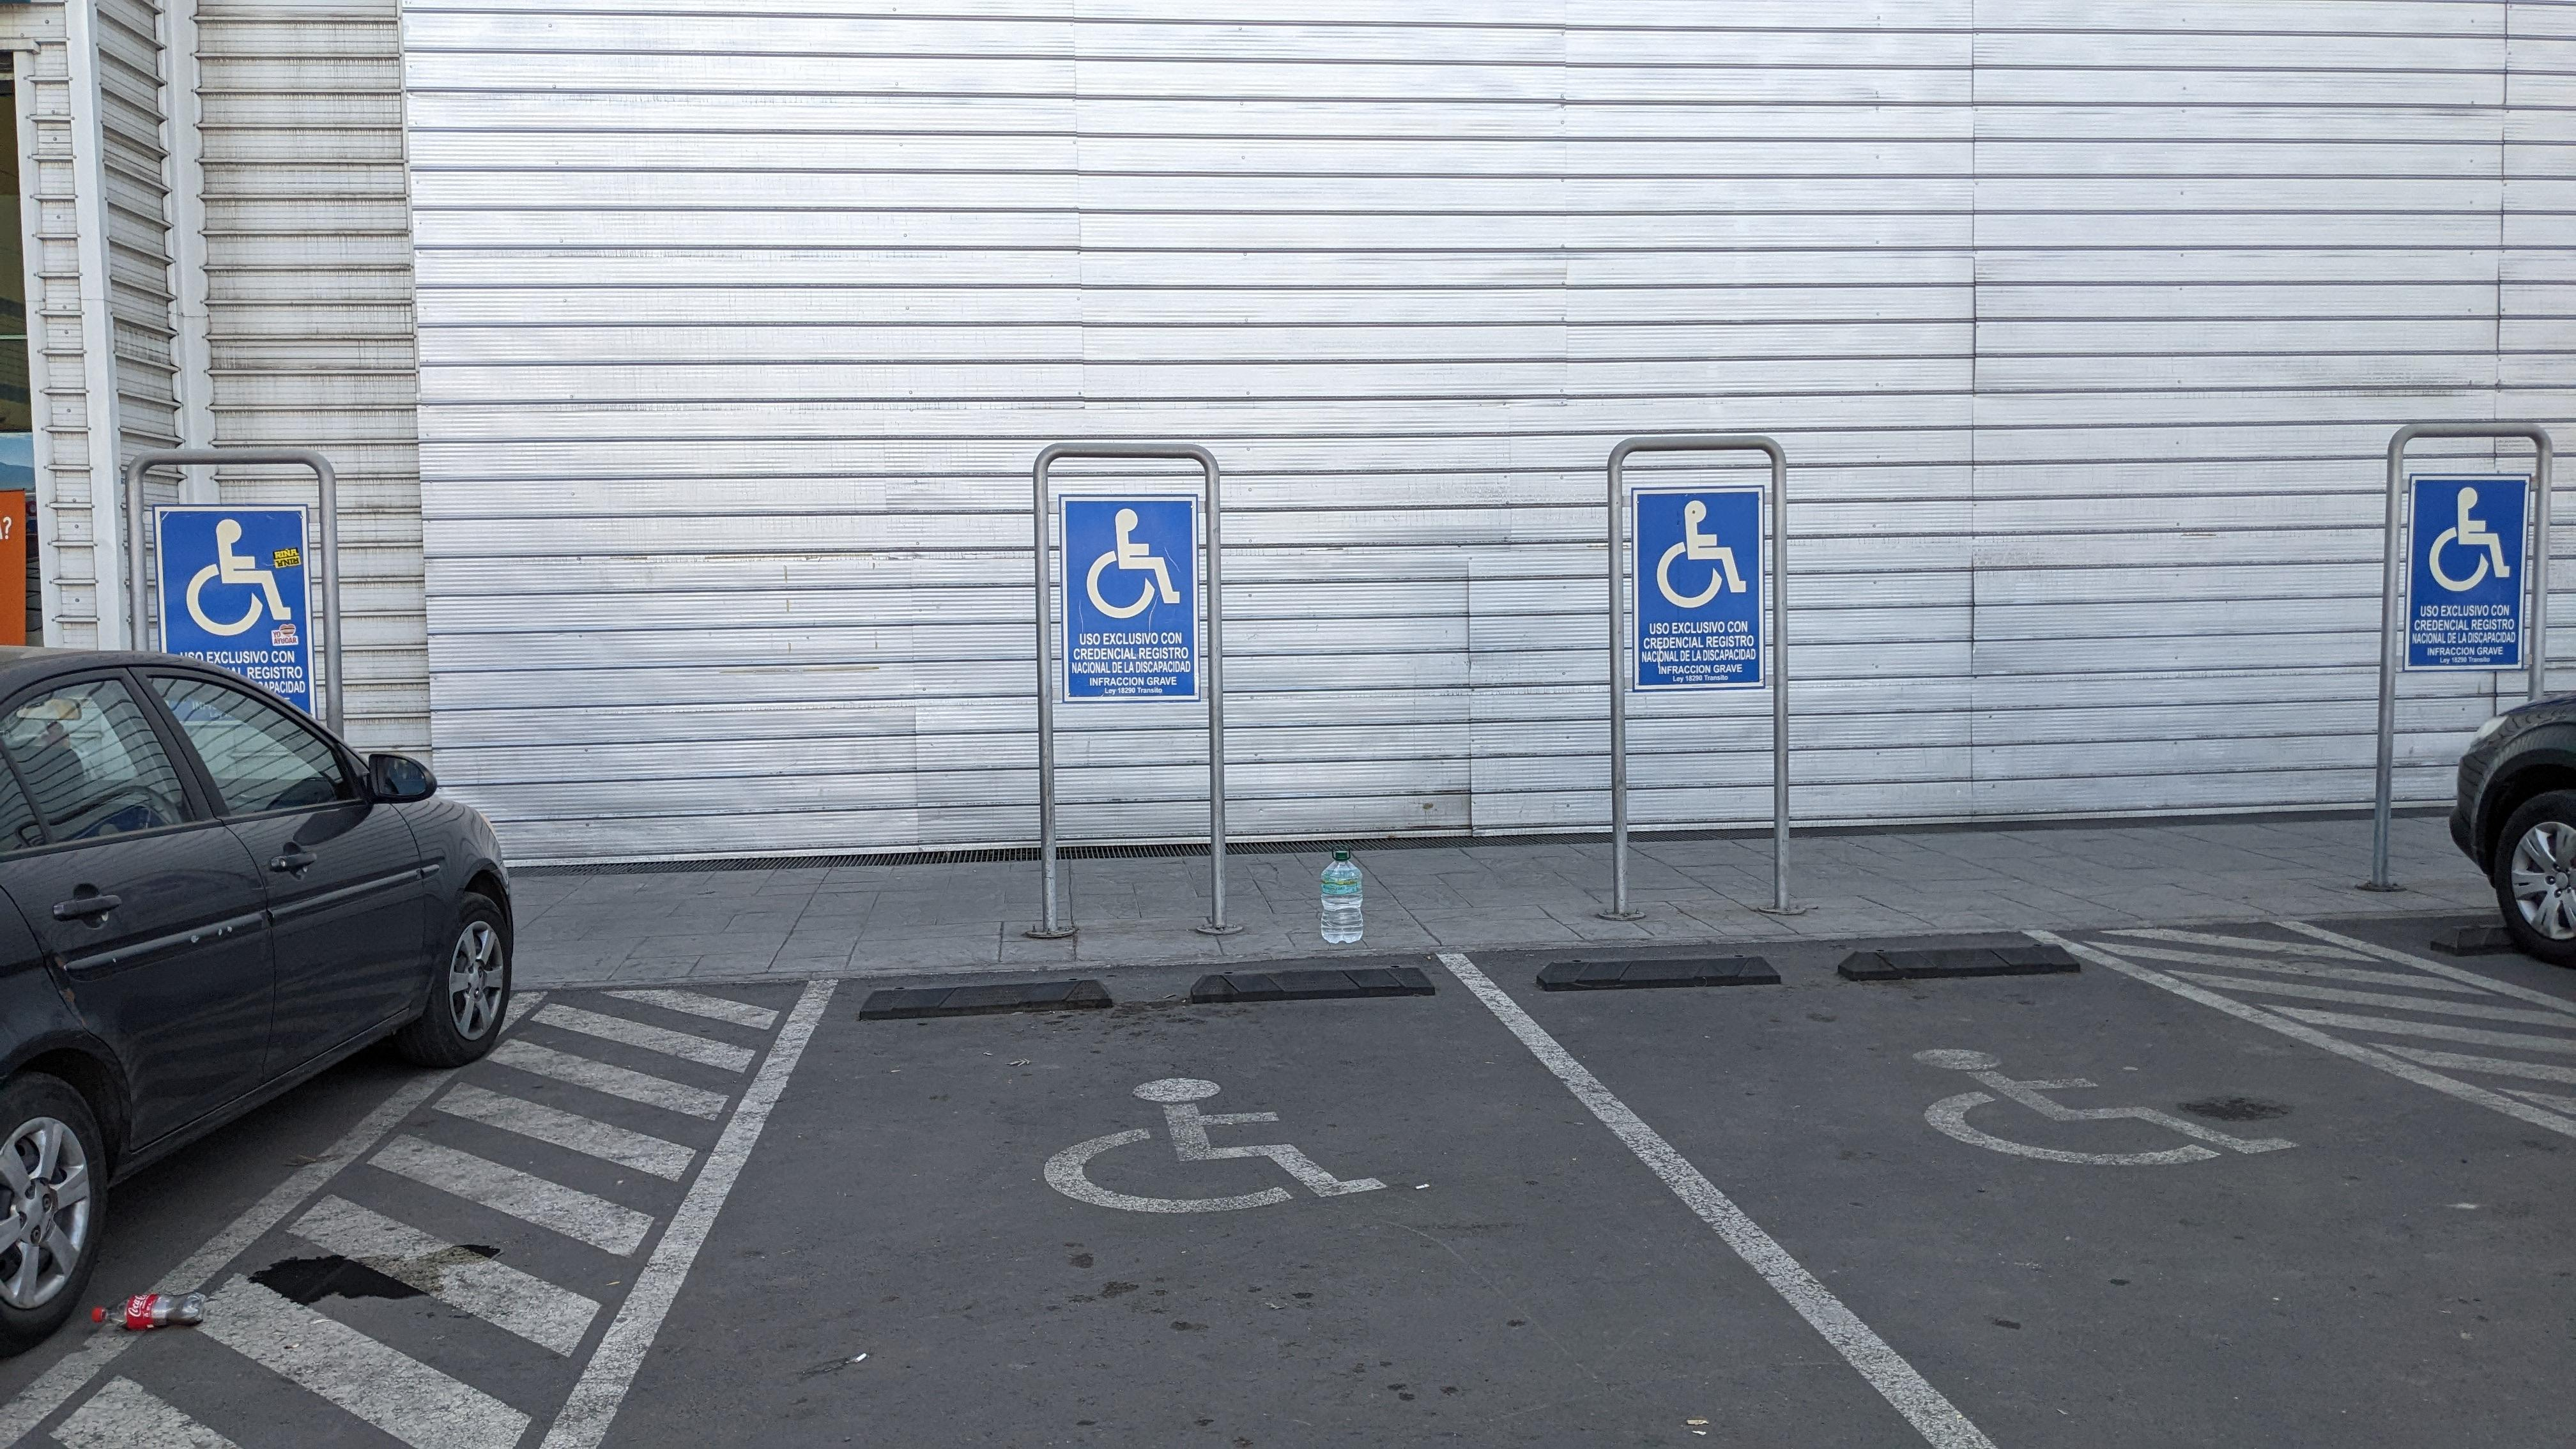handicapped symbol: (1886, 1033, 2304, 1184), (1039, 1067, 1396, 1223), (184, 515, 292, 637), (1085, 506, 1182, 621), (1649, 499, 1748, 610), (2426, 483, 2516, 596)
